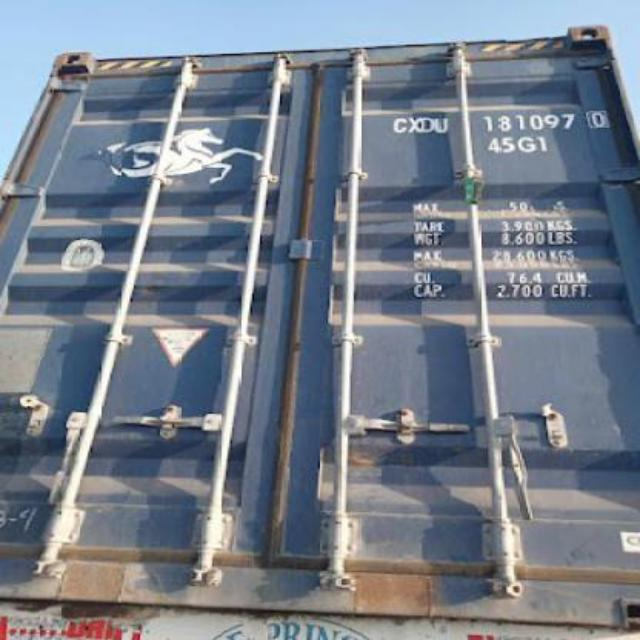0: (526, 112, 544, 132), (590, 111, 606, 129)
1: (482, 114, 496, 132), (514, 114, 526, 130)
7: (558, 111, 576, 129)
8: (496, 116, 516, 134)
9: (542, 114, 560, 130)
C: (390, 114, 408, 136)
D: (421, 116, 434, 134)
U: (434, 116, 448, 134)
X: (408, 116, 420, 134)
